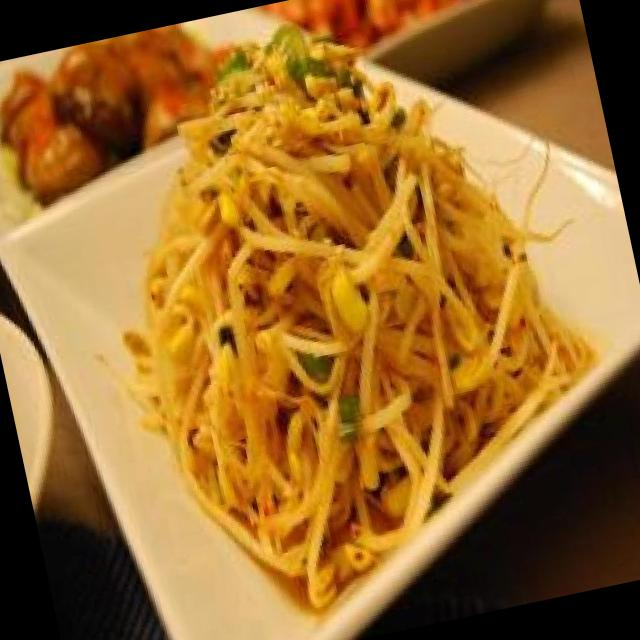mung_bean_sprouts: (34, 0, 634, 640)
